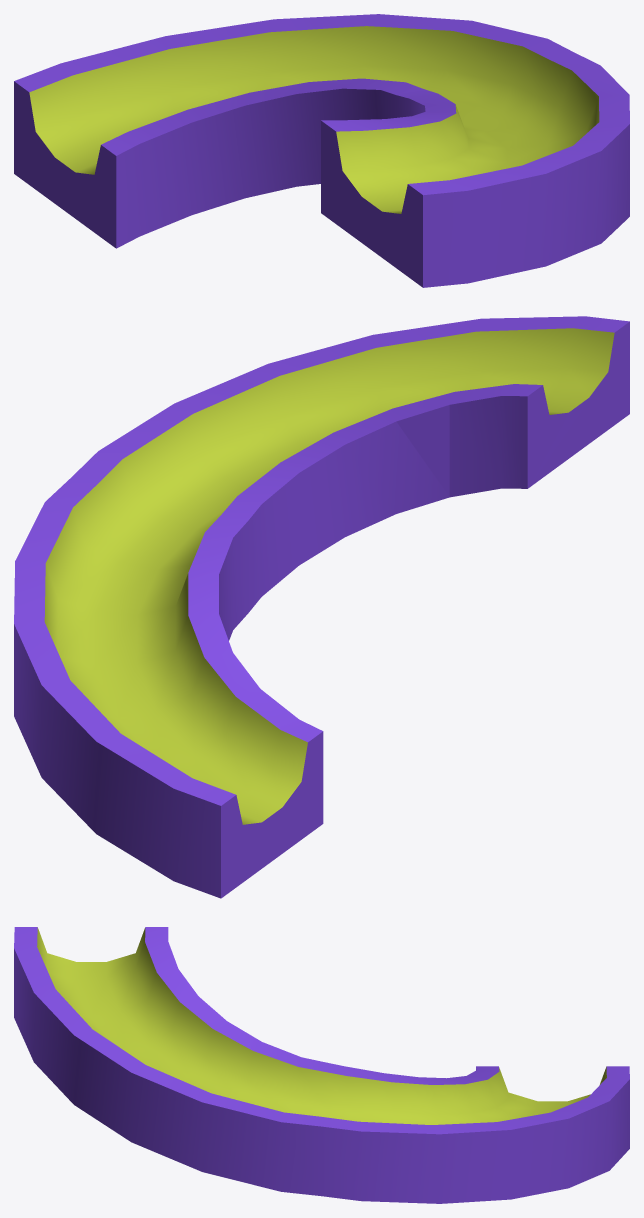
File: helix_half_right-col.dae
3 renders of one model, top to bottom at view 1: azimuth 30°, elevation 25°; view 2: azimuth 150°, elevation 25°; view 3: azimuth 270°, elevation 25°, orthographic. The views are drawn at different scales.
Parts seen in each view (by area): view 1: helix_half_right-col; view 2: helix_half_right-col; view 3: helix_half_right-col.
Boxes of the visible parts, x1=… form: helix_half_right-col: x1=14, y1=14, x2=629, y2=287; helix_half_right-col: x1=14, y1=316, x2=629, y2=898; helix_half_right-col: x1=14, y1=927, x2=629, y2=1203.
Size of the model in its own units: 2 by 4.01 by 1.5.
